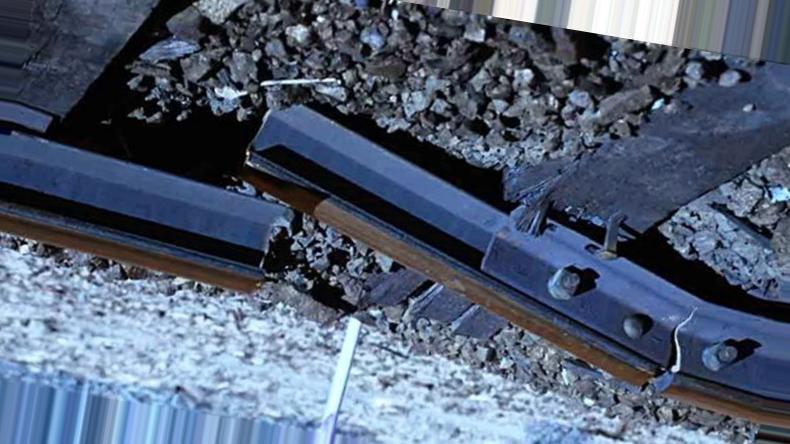tracks_fault: (238, 94, 365, 322), (631, 272, 744, 405)
